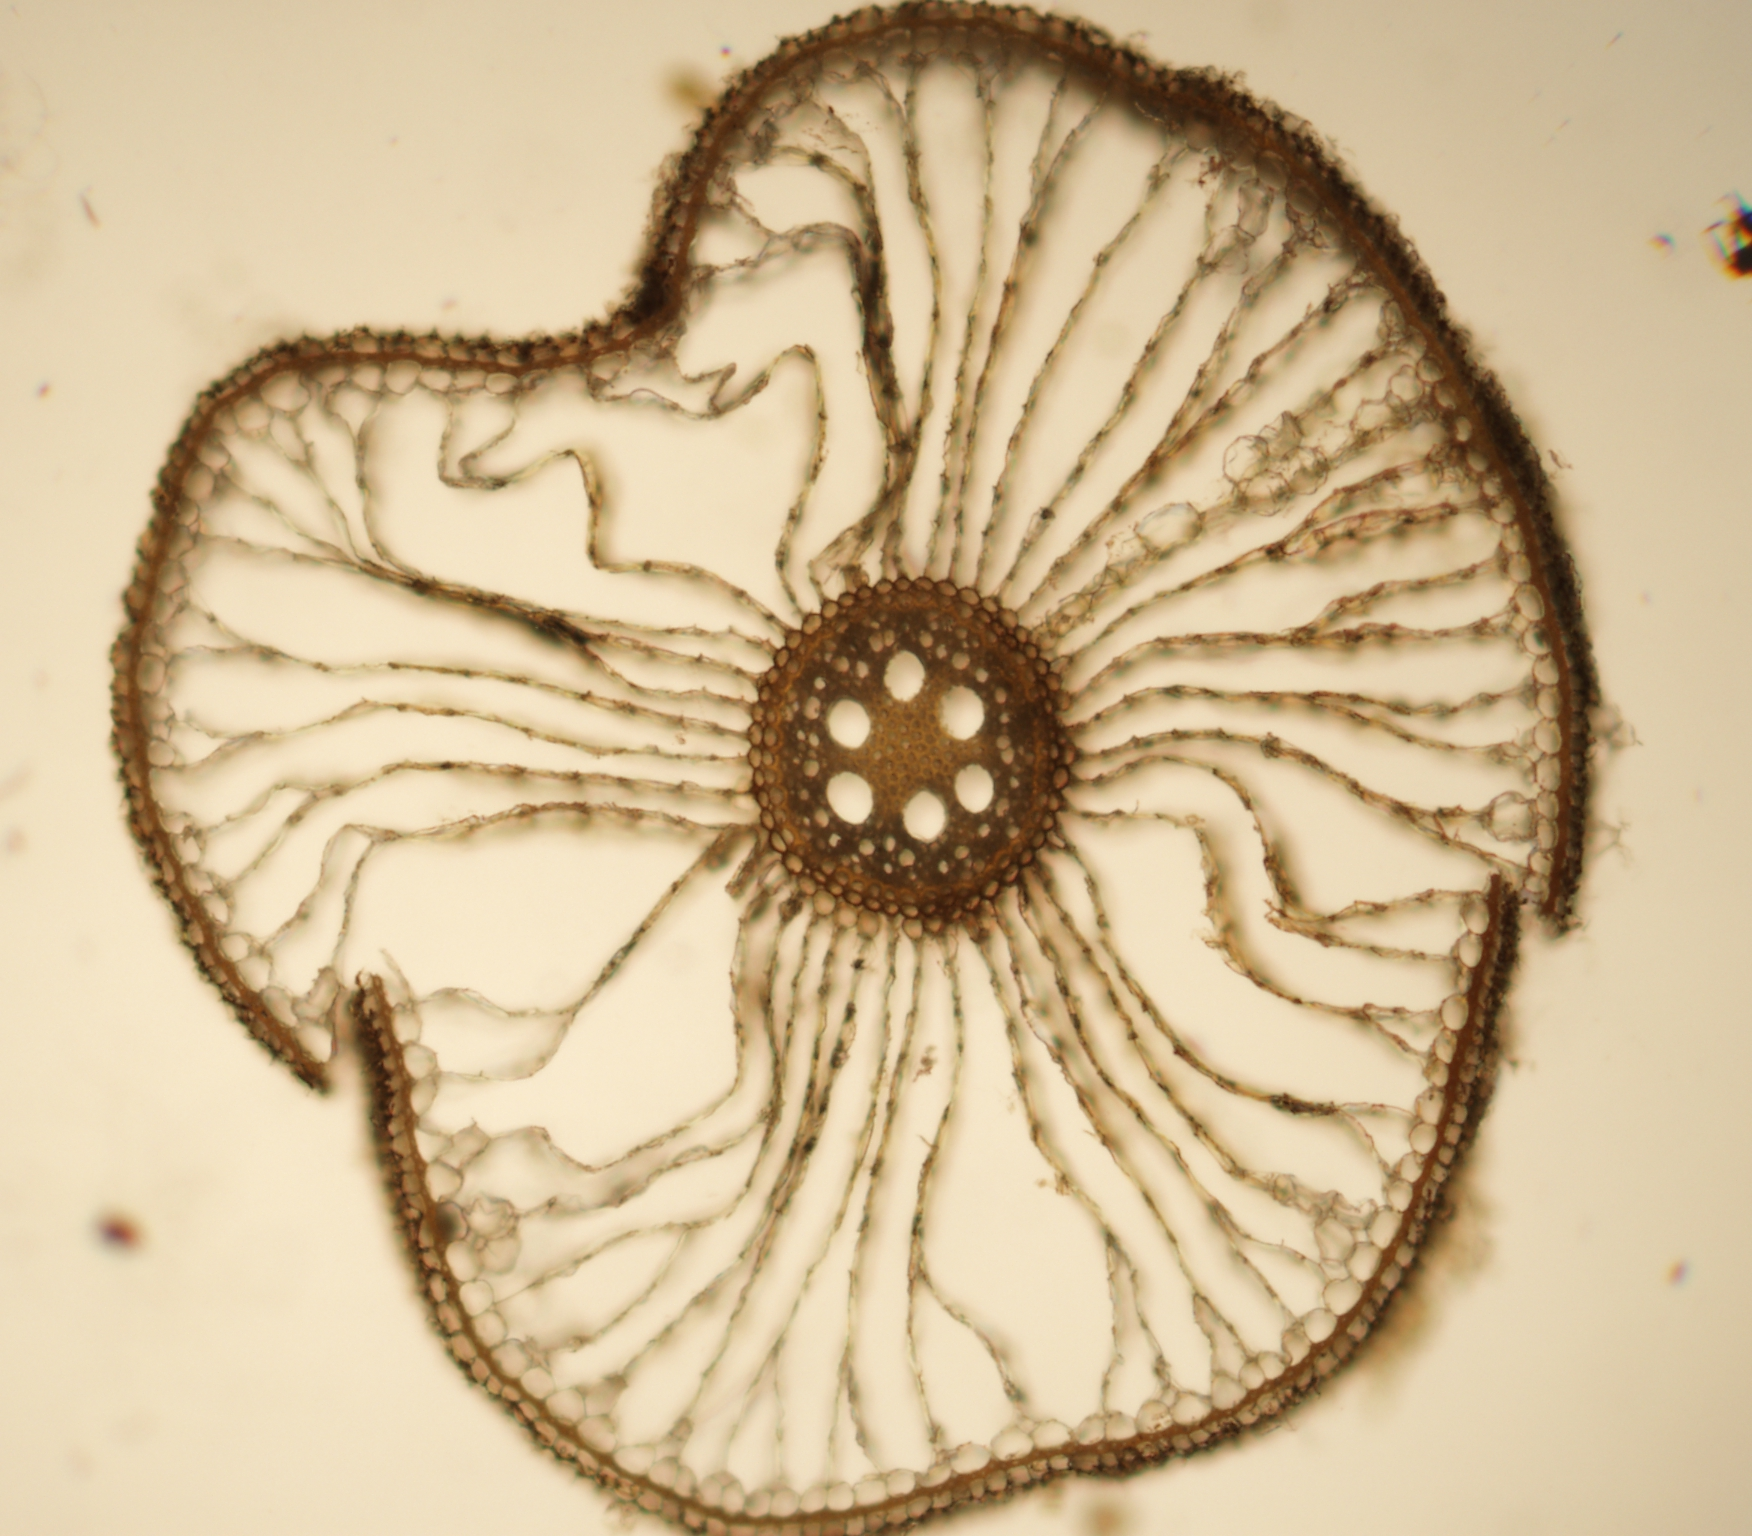lm: (936, 684, 985, 740), (825, 772, 875, 825), (901, 790, 948, 845), (825, 699, 872, 749), (883, 650, 925, 702), (955, 763, 994, 813)
